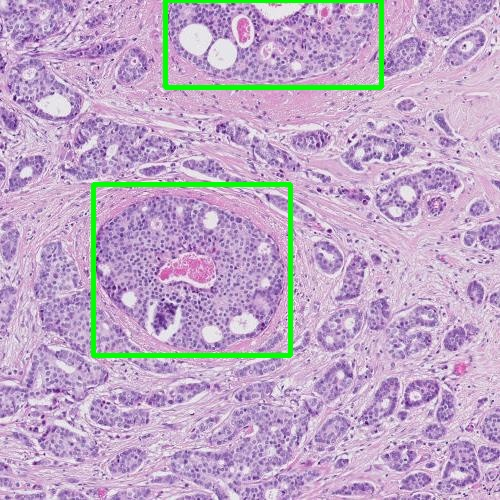DCIS: (93, 184, 290, 355), (165, 0, 381, 87)
